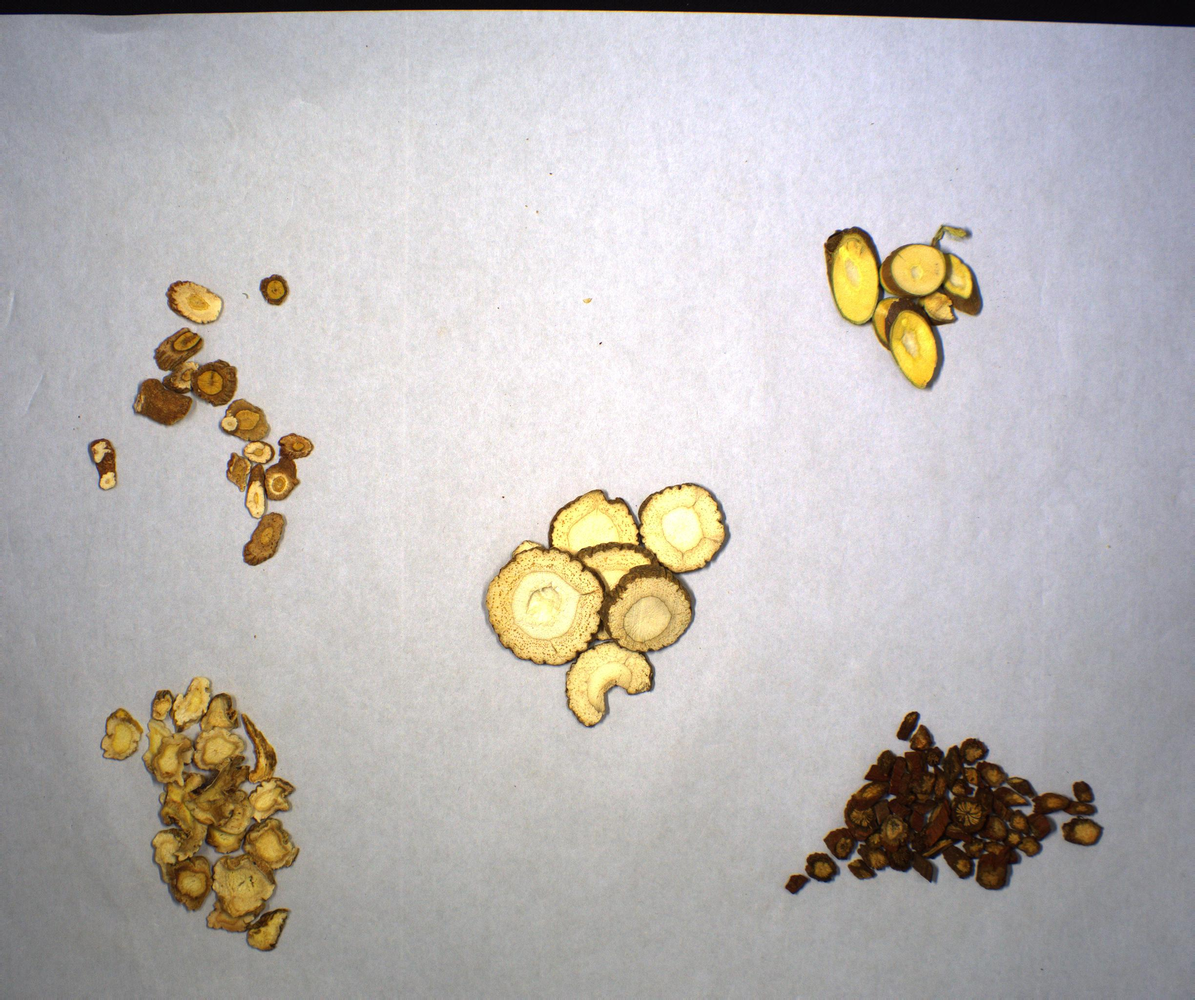baizhi: (479, 480, 733, 729)
banlangen: (86, 274, 315, 575)
danshen: (779, 710, 1105, 896)
jiegeng: (98, 674, 304, 953)
sangzhi: (824, 223, 987, 394)
